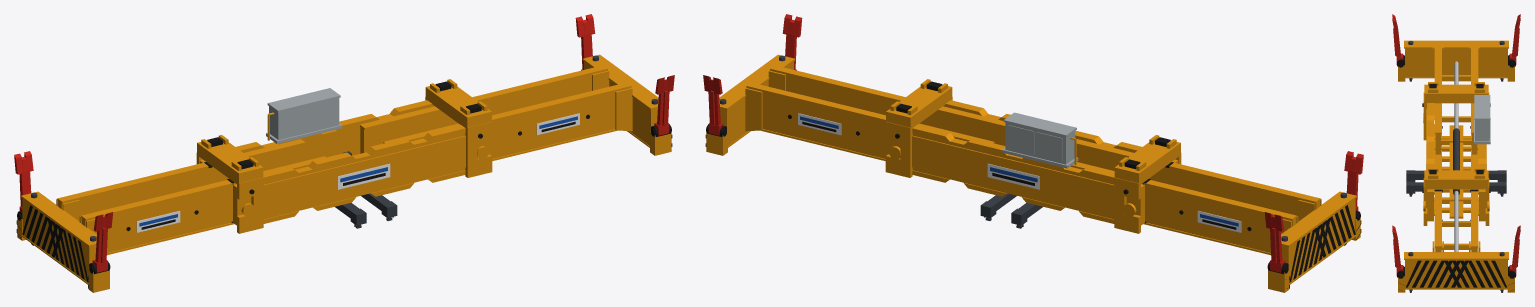
The model's file is STS_Spreader_2x20ft_TwinLift.obj.
3 renders of one model, left to right at view 1: azimuth 30°, elevation 25°; view 2: azimuth 150°, elevation 25°; view 3: azimuth 270°, elevation 25°, orthographic. The views are drawn at different scales.
Visible parts, largest first — view 1: 01_Main_Center_Frame, 05_Telescopic_Arm_Right, 05_Telescopic_Arm_Left, 06_End_Beam_Left, 06_End_Beam_Right, 04_Hydraulic_Electrical_Cabinet, 07_Hazard_Stripes_Left, 11_Nameplates_White, 03_WearPads_And_Guides, 02_TwinLift_Center_Module, 10_Red_Flipper_R_Front, 10_Red_Flipper_L_Front (+3 smaller); view 2: 01_Main_Center_Frame, 05_Telescopic_Arm_Left, 05_Telescopic_Arm_Right, 06_End_Beam_Left, 06_End_Beam_Right, 04_Hydraulic_Electrical_Cabinet, 07_Hazard_Stripes_Left, 11_Nameplates_White, 03_WearPads_And_Guides, 02_TwinLift_Center_Module, 10_Red_Flipper_R_Back, 10_Red_Flipper_L_Back (+3 smaller); view 3: 01_Main_Center_Frame, 06_End_Beam_Left, 06_End_Beam_Right, 05_Telescopic_Arm_Left, 05_Telescopic_Arm_Right, 07_Hazard_Stripes_Right, 02_TwinLift_Center_Module, 04_Hydraulic_Electrical_Cabinet, 02_TwinLift_Center_Rods, 10_Red_Flipper_R_Back, 10_Red_Flipper_R_Front, 10_Red_Flipper_L_Back (+3 smaller).
Part boxes in pixels (<box>): 01_Main_Center_Frame: <box>196,79,492,233</box>; 05_Telescopic_Arm_Right: <box>360,65,631,160</box>; 05_Telescopic_Arm_Left: <box>57,139,325,255</box>; 06_End_Beam_Left: <box>17,191,109,292</box>; 06_End_Beam_Right: <box>582,54,671,155</box>; 04_Hydraulic_Electrical_Cabinet: <box>266,88,342,143</box>; 07_Hazard_Stripes_Left: <box>16,205,92,288</box>; 11_Nameplates_White: <box>136,113,579,232</box>; 03_WearPads_And_Guides: <box>126,81,589,231</box>; 02_TwinLift_Center_Module: <box>335,151,397,228</box>; 10_Red_Flipper_R_Front: <box>654,75,674,135</box>; 10_Red_Flipper_L_Front: <box>92,212,113,272</box>; 01_Main_Center_Frame: <box>885,79,1181,233</box>; 05_Telescopic_Arm_Left: <box>1070,139,1320,255</box>; 05_Telescopic_Arm_Right: <box>746,65,1005,160</box>; 06_End_Beam_Left: <box>1268,191,1360,292</box>; 06_End_Beam_Right: <box>706,54,795,155</box>; 04_Hydraulic_Electrical_Cabinet: <box>1002,112,1078,168</box>; 07_Hazard_Stripes_Left: <box>1285,205,1361,288</box>; 11_Nameplates_White: <box>798,113,1241,232</box>; 03_WearPads_And_Guides: <box>788,81,1251,231</box>; 02_TwinLift_Center_Module: <box>980,193,1042,228</box>; 10_Red_Flipper_R_Back: <box>703,75,723,135</box>; 10_Red_Flipper_L_Back: <box>1264,212,1285,272</box>; 01_Main_Center_Frame: <box>1423,82,1489,225</box>; 06_End_Beam_Left: <box>1398,40,1514,81</box>; 06_End_Beam_Right: <box>1398,241,1514,292</box>; 05_Telescopic_Arm_Left: <box>1434,41,1478,154</box>; 05_Telescopic_Arm_Right: <box>1434,154,1478,252</box>; 07_Hazard_Stripes_Right: <box>1398,260,1514,291</box>; 02_TwinLift_Center_Module: <box>1406,128,1506,196</box>; 04_Hydraulic_Electrical_Cabinet: <box>1474,95,1490,144</box>; 02_TwinLift_Center_Rods: <box>1454,61,1458,251</box>; 10_Red_Flipper_R_Back: <box>1509,225,1520,275</box>; 10_Red_Flipper_R_Front: <box>1392,225,1403,275</box>; 10_Red_Flipper_L_Back: <box>1509,14,1520,64</box>.
Size of the model in its own units: 12.78 by 2.03 by 3.18.
